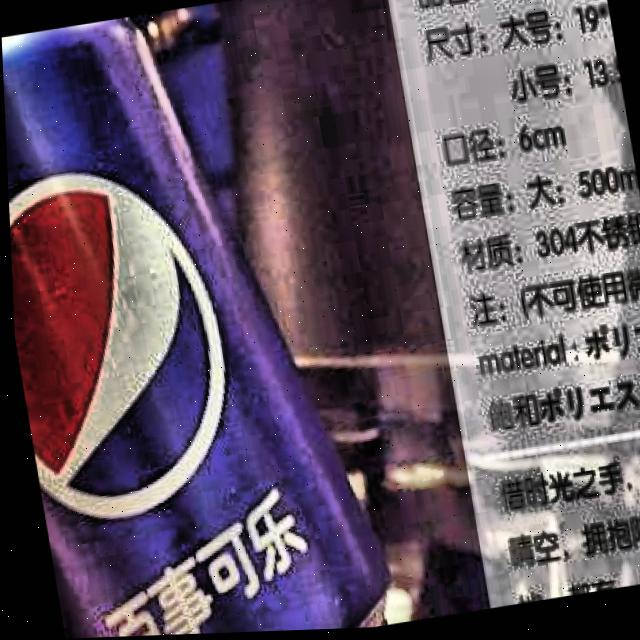metal: (0, 0, 414, 640)
